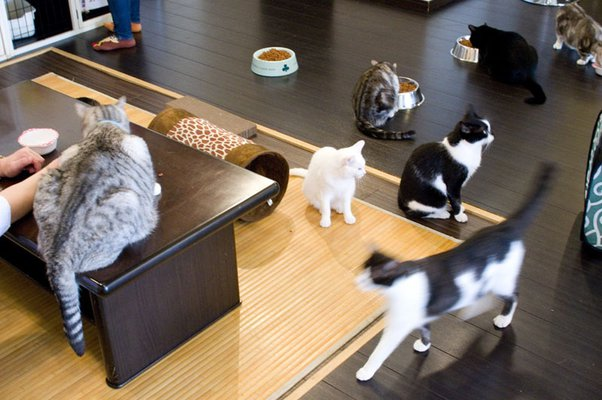cat: (351, 157, 564, 384), (28, 93, 167, 360), (395, 106, 497, 224), (466, 19, 550, 107), (288, 138, 368, 228), (350, 55, 418, 141), (547, 2, 602, 73)
